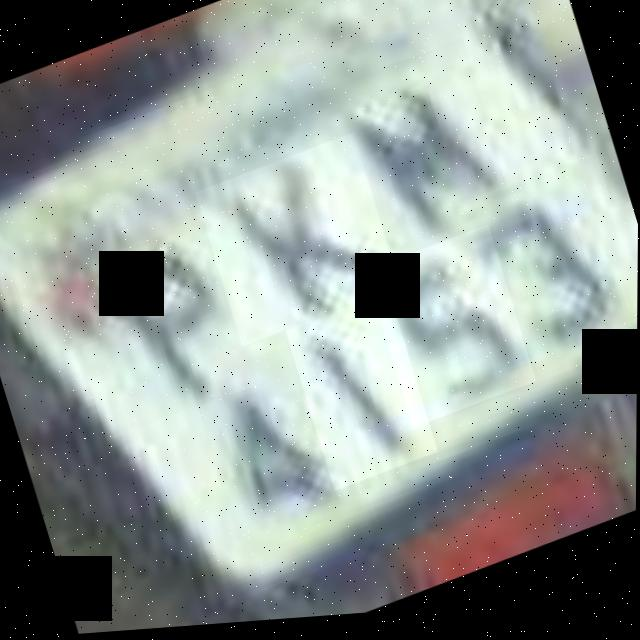1: (285, 294, 439, 499)
3: (441, 163, 638, 383)
4: (189, 334, 377, 580)
5: (365, 229, 537, 437)
N: (314, 42, 515, 270)
P: (81, 218, 260, 435)
R: (194, 135, 402, 353)
